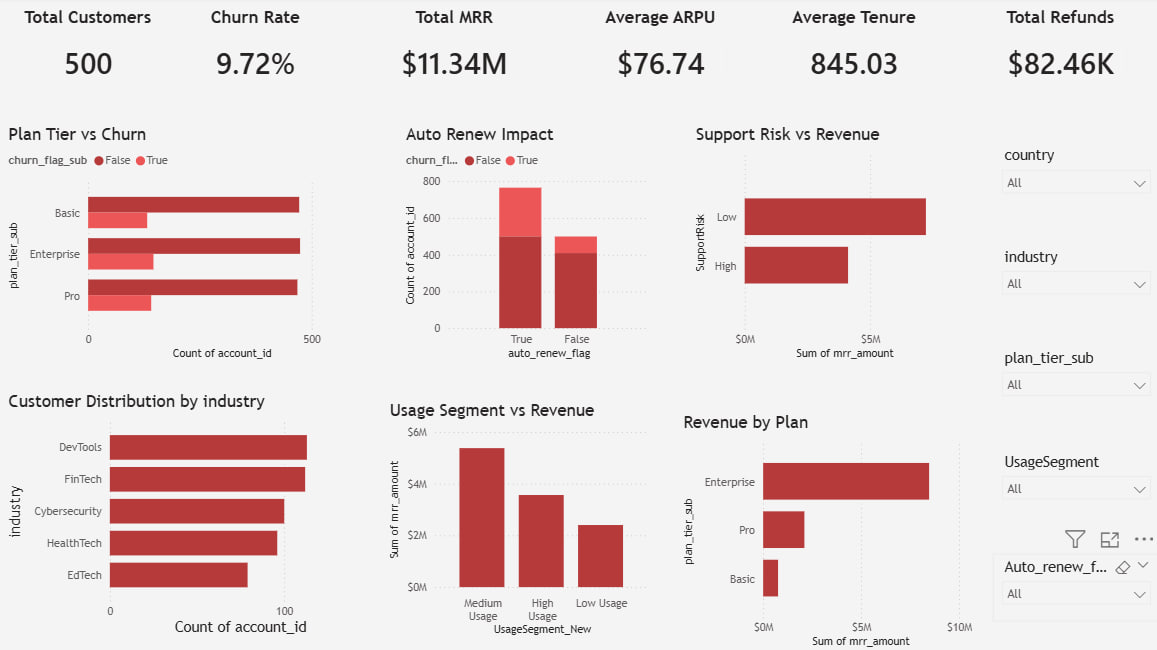

The page's visual inventory and layout, read from the dashboard file:
{"tool":"powerbi","page":{"name":"Page 1","canvas":[1280,720],"ordinal":0},"visuals":[{"type":"cardVisual","title":"Total Customers","fields":{"Data":["Count(saas_retention_cleaned.account_id)"]},"box":[11,12.3,183.9,96.1],"z":0},{"type":"cardVisual","title":"Churn Rate","fields":{"Data":["saas_retention_cleaned.Churn Rate"]},"box":[194.9,12.3,183.9,96.1],"z":1},{"type":"cardVisual","title":"Total MRR","fields":{"Data":["Sum(saas_retention_cleaned.mrr_amount)"]},"box":[413,12.3,183.9,96.1],"z":2},{"type":"cardVisual","title":"Average ARPU","fields":{"Data":["Avg(saas_retention_cleaned.ARPU)"]},"box":[639.5,12.3,183.9,96.1],"z":3},{"type":"cardVisual","title":"Average Tenure","fields":{"Data":["Avg(saas_retention_cleaned.TenureDays)"]},"box":[852.1,12.3,183.9,96.1],"z":4},{"type":"cardVisual","title":"Total Refunds","fields":{"Data":["Sum(saas_retention_cleaned.refund_amount_usd)"]},"box":[1078.6,12.3,183.9,96.1],"z":5},{"type":"clusteredBarChart","title":"Plan Tier vs Churn","fields":{"Category":["saas_retention_cleaned.plan_tier_sub"],"Y":["Count(saas_retention_cleaned.account_id)"],"Series":["saas_retention_cleaned.churn_flag_sub"]},"box":[11,140,402.1,263.5],"z":6},{"type":"barChart","title":"Revenue by Plan","fields":{"Category":["saas_retention_cleaned.plan_tier_sub"],"Y":["Sum(saas_retention_cleaned.mrr_amount)"]},"box":[752,456.9,326.6,263.5],"z":7},{"type":"columnChart","title":"Auto Renew Impact","fields":{"Series":["saas_retention_cleaned.churn_flag_sub"],"Category":["saas_retention_cleaned.auto_renew_flag"],"Y":["Count(saas_retention_cleaned.account_id)"]},"box":[447.3,140,277.2,263.5],"z":9},{"type":"barChart","title":"Support Risk vs Revenue","fields":{"Category":["saas_retention_cleaned.SupportRisk"],"Y":["Sum(saas_retention_cleaned.mrr_amount)"]},"box":[765.7,140,295,263.5],"z":10},{"type":"clusteredColumnChart","title":"Usage Segment vs Revenue","fields":{"Category":["saas_retention_cleaned.UsageSegment_New"],"Y":["Sum(saas_retention_cleaned.mrr_amount)"]},"box":[429.5,443.2,295,263.5],"z":11},{"type":"barChart","title":"Customer Distribution by industry","fields":{"Category":["saas_retention_cleaned.industry"],"Y":["Count(saas_retention_cleaned.account_id)"]},"box":[11,433.6,418.5,273.1],"z":12},{"type":"slicer","fields":{"Values":["saas_retention_cleaned.country"]},"box":[1096.4,160.5,183.9,74.1],"z":13},{"type":"slicer","fields":{"Values":["saas_retention_cleaned.industry"]},"box":[1096.4,271.7,183.9,74.1],"z":14},{"type":"slicer","fields":{"Values":["saas_retention_cleaned.plan_tier_sub"]},"box":[1096.4,382.8,183.9,74.1],"z":15},{"type":"slicer","fields":{"Values":["saas_retention_cleaned.UsageSegment_New"]},"box":[1096.4,496.7,183.9,74.1],"z":16},{"type":"slicer","fields":{"Values":["saas_retention_cleaned.auto_renew_flag"]},"box":[1096.4,612,183.9,74.1],"z":17}]}

Visuals, with their boxes in screenshot pixels (x1, y1, x2, y2), scaled from the page's 1280x720 canvas onto the 1157x650 screenshot:
"Total Customers" cardVisual: (left=10, top=11, right=176, bottom=98)
"Churn Rate" cardVisual: (left=176, top=11, right=342, bottom=98)
"Total MRR" cardVisual: (left=373, top=11, right=540, bottom=98)
"Average ARPU" cardVisual: (left=578, top=11, right=744, bottom=98)
"Average Tenure" cardVisual: (left=770, top=11, right=936, bottom=98)
"Total Refunds" cardVisual: (left=975, top=11, right=1141, bottom=98)
"Plan Tier vs Churn" clusteredBarChart: (left=10, top=126, right=373, bottom=364)
"Revenue by Plan" barChart: (left=680, top=412, right=975, bottom=649)
"Auto Renew Impact" columnChart: (left=404, top=126, right=655, bottom=364)
"Support Risk vs Revenue" barChart: (left=692, top=126, right=959, bottom=364)
"Usage Segment vs Revenue" clusteredColumnChart: (left=388, top=400, right=655, bottom=638)
"Customer Distribution by industry" barChart: (left=10, top=391, right=388, bottom=638)
slicer - saas_retention_cleaned.country: (left=991, top=145, right=1156, bottom=212)
slicer - saas_retention_cleaned.industry: (left=991, top=245, right=1156, bottom=312)
slicer - saas_retention_cleaned.plan_tier_sub: (left=991, top=346, right=1156, bottom=412)
slicer - saas_retention_cleaned.UsageSegment_New: (left=991, top=448, right=1156, bottom=515)
slicer - saas_retention_cleaned.auto_renew_flag: (left=991, top=552, right=1156, bottom=619)
